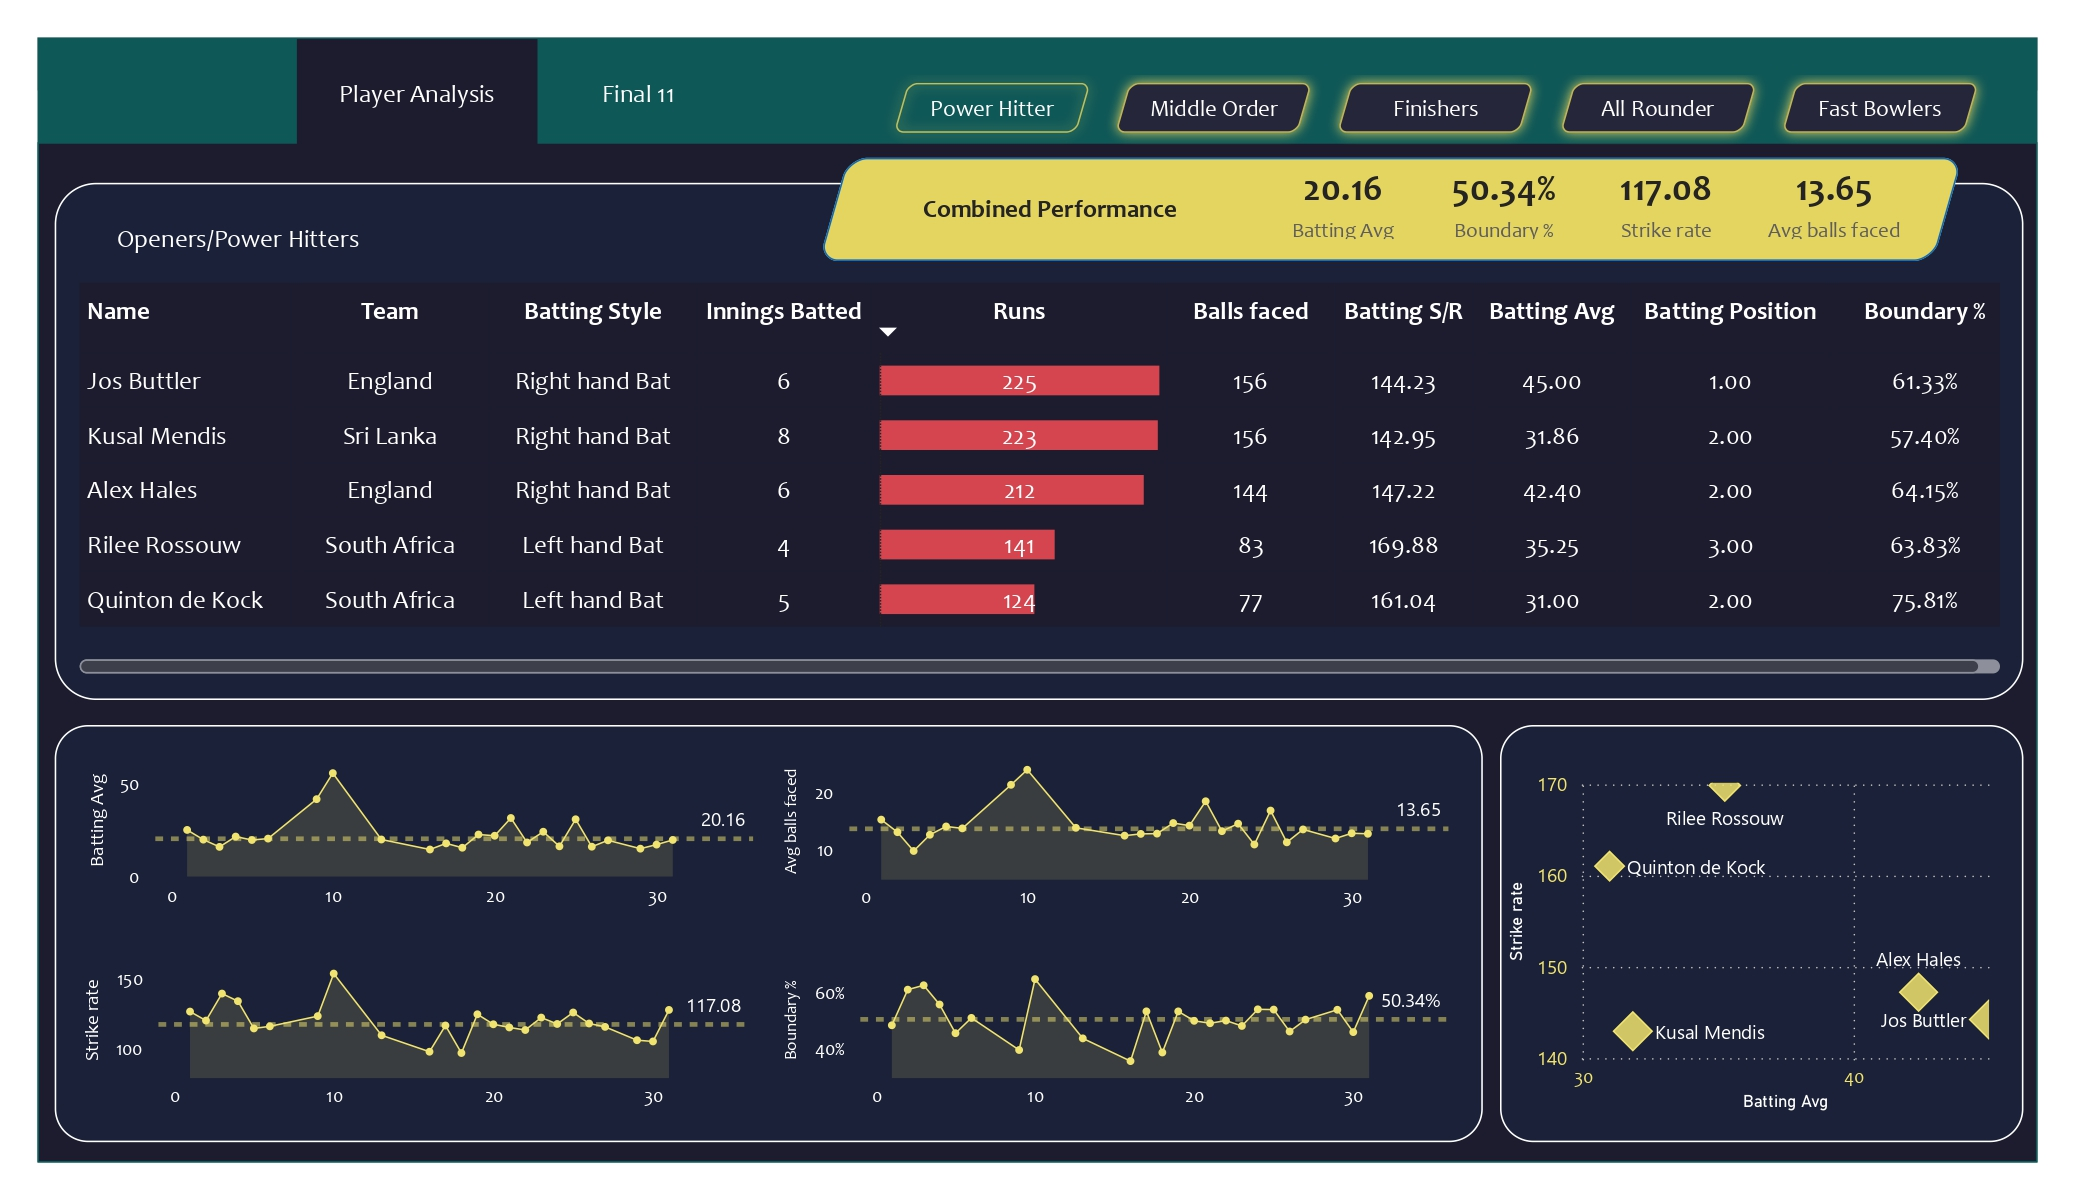

The page's visual inventory and layout, read from the dashboard file:
{"tool":"powerbi","page":{"name":"Openers","canvas":[1280,720],"ordinal":0},"visuals":[{"type":"shape","box":[0,67.2,1280.3,653.2],"z":0},{"type":"shape","box":[11,93.3,1259.7,330.7],"z":1000},{"type":"shape","box":[935.9,440.5,334.8,266.2],"z":2000},{"type":"scatterChart","fields":{"Category":["dim_players.Name"],"X":["Key_measures.Batting Avg"],"Y":["Key_measures.Strike rate"],"Size":["Key_measures.Total_Runs"]},"box":[935.9,463.8,325.2,227.8],"z":3000},{"type":"tableEx","fields":{"Values":["dim_players.name","dim_players.team","dim_players.battingStyle","Key_measures.Total Innings Batted","Key_measures.Total_Runs","Key_measures.total balls faced","Key_measures.Strike rate","Key_measures.Batting Avg","Key_measures.Batting Position","Key_measures.Boundary %"]},"box":[20.6,152.3,1240.5,259.3],"z":5000},{"type":"shape","box":[500.5,76.8,731.4,65.9],"z":6000},{"type":"card","fields":{"Values":["Key_measures.Avg balls faced"]},"box":[1089.1,74.4,122.1,60],"z":7000},{"type":"card","fields":{"Values":["Key_measures.Boundary %"]},"box":[882.4,74.4,112.5,60],"z":8000},{"type":"card","fields":{"Values":["Key_measures.Strike rate"]},"box":[988.5,74.4,107,60],"z":9000},{"type":"card","fields":{"Values":["Key_measures.Batting Avg"]},"box":[781.8,74.4,107,60],"z":10000},{"type":"shape","box":[37,107,182.5,42.5],"z":11000},{"type":"shape","box":[534.8,91.9,226.4,34.3],"z":12000},{"type":"shape","box":[540.3,20.6,142,48],"z":13000},{"type":"shape","box":[682.3,20.6,142,48],"z":14000},{"type":"shape","box":[824.3,20.6,142,48],"z":15000},{"type":"shape","box":[966.4,20.6,142,48],"z":16000},{"type":"shape","box":[1108.1,20.6,142,48],"z":17000},{"type":"shape","box":[11,440.5,913.9,266.2],"z":18000},{"type":"areaChart","fields":{"Y":["Key_measures.Batting Avg"],"Category":["dim_match_summary.matchDate.Variation.Date Hierarchy.Day"]},"box":[27.9,451.2,435,115],"z":19000},{"type":"areaChart","fields":{"Category":["dim_match_summary.matchDate.Variation.Date Hierarchy.Day"],"Y":["Key_measures.Avg balls faced"]},"box":[473.4,451.5,435,115.3],"z":20000},{"type":"areaChart","fields":{"Category":["dim_match_summary.matchDate.Variation.Date Hierarchy.Day"],"Y":["Key_measures.Strike rate"]},"box":[25.4,578.8,435,115],"z":21000},{"type":"areaChart","fields":{"Y":["Key_measures.Boundary %"],"Category":["dim_match_summary.matchDate.Variation.Date Hierarchy.Day"]},"box":[473.4,578.8,435,115],"z":22000},{"type":"actionButton","box":[166,1.4,153.7,67.2],"z":23000},{"type":"actionButton","box":[319.7,1.4,129,67.2],"z":24000}]}

Visuals, with their boxes on the page's 1280x720 design canvas (x1, y1, x2, y2). These are canvas units, not pixel positions in the 2075x1200 screenshot, which may show the page scaled, cropped or inside an application window:
shape: crop(0, 67, 1280, 720)
shape: crop(11, 93, 1271, 424)
shape: crop(936, 440, 1271, 707)
scatterChart - dim_players.Name x Key_measures.Batting Avg: crop(936, 464, 1261, 692)
tableEx - dim_players.name x dim_players.team: crop(21, 152, 1261, 412)
shape: crop(500, 77, 1232, 143)
card - Key_measures.Avg balls faced: crop(1089, 74, 1211, 134)
card - Key_measures.Boundary %: crop(882, 74, 995, 134)
card - Key_measures.Strike rate: crop(988, 74, 1096, 134)
card - Key_measures.Batting Avg: crop(782, 74, 889, 134)
shape: crop(37, 107, 220, 150)
shape: crop(535, 92, 761, 126)
shape: crop(540, 21, 682, 69)
shape: crop(682, 21, 824, 69)
shape: crop(824, 21, 966, 69)
shape: crop(966, 21, 1108, 69)
shape: crop(1108, 21, 1250, 69)
shape: crop(11, 440, 925, 707)
areaChart - Key_measures.Batting Avg x dim_match_summary.matchDate.Variation.Date Hierarchy.Day: crop(28, 451, 463, 566)
areaChart - dim_match_summary.matchDate.Variation.Date Hierarchy.Day x Key_measures.Avg balls faced: crop(473, 452, 908, 567)
areaChart - dim_match_summary.matchDate.Variation.Date Hierarchy.Day x Key_measures.Strike rate: crop(25, 579, 460, 694)
areaChart - Key_measures.Boundary % x dim_match_summary.matchDate.Variation.Date Hierarchy.Day: crop(473, 579, 908, 694)
actionButton: crop(166, 1, 320, 69)
actionButton: crop(320, 1, 449, 69)
